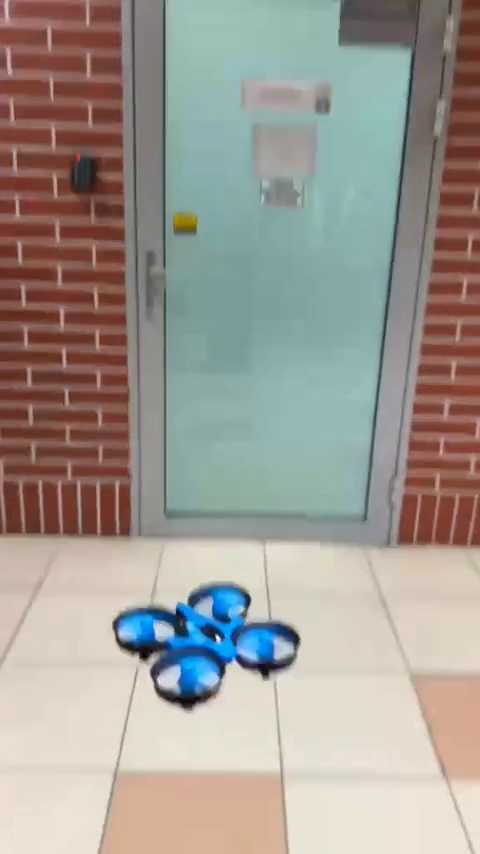drone: (114, 584, 300, 712)
